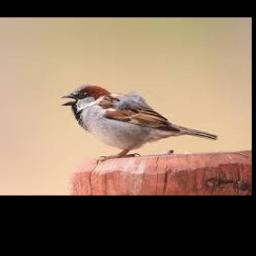Sparrow: (60, 83, 217, 163)
